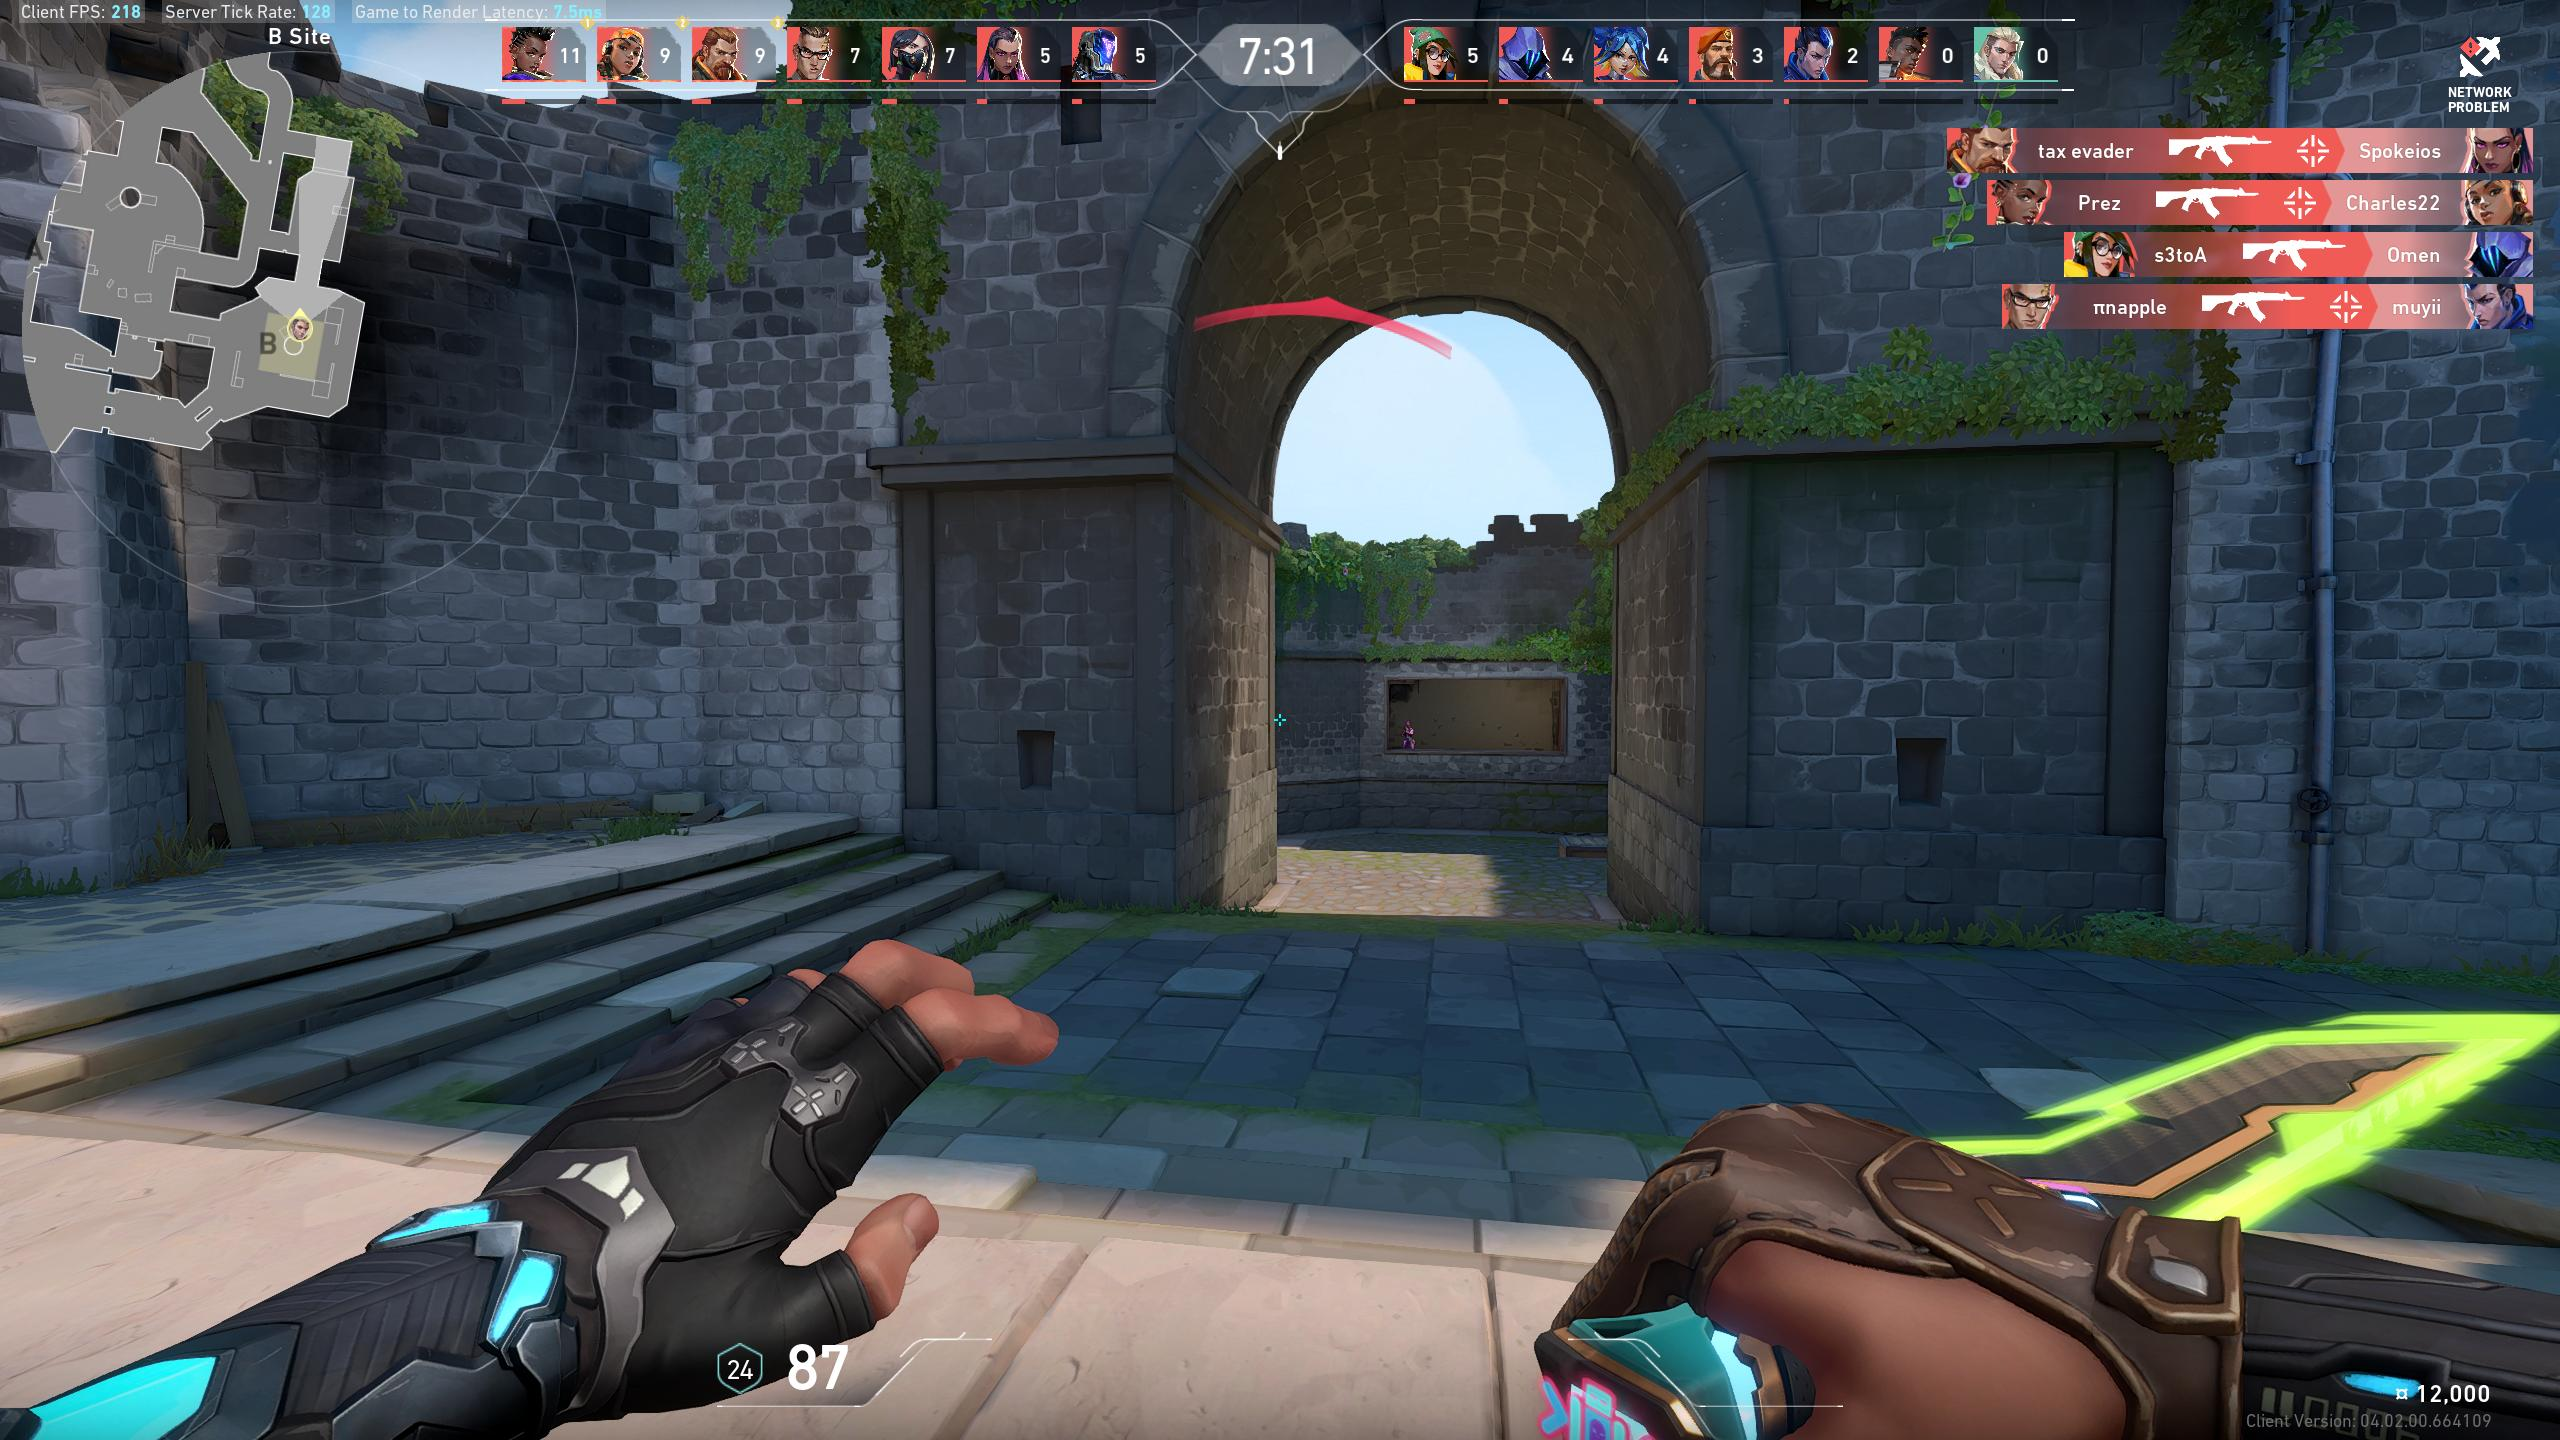enemyBody: (1407, 730, 1410, 737)
enemyHead: (1408, 723, 1410, 728)
